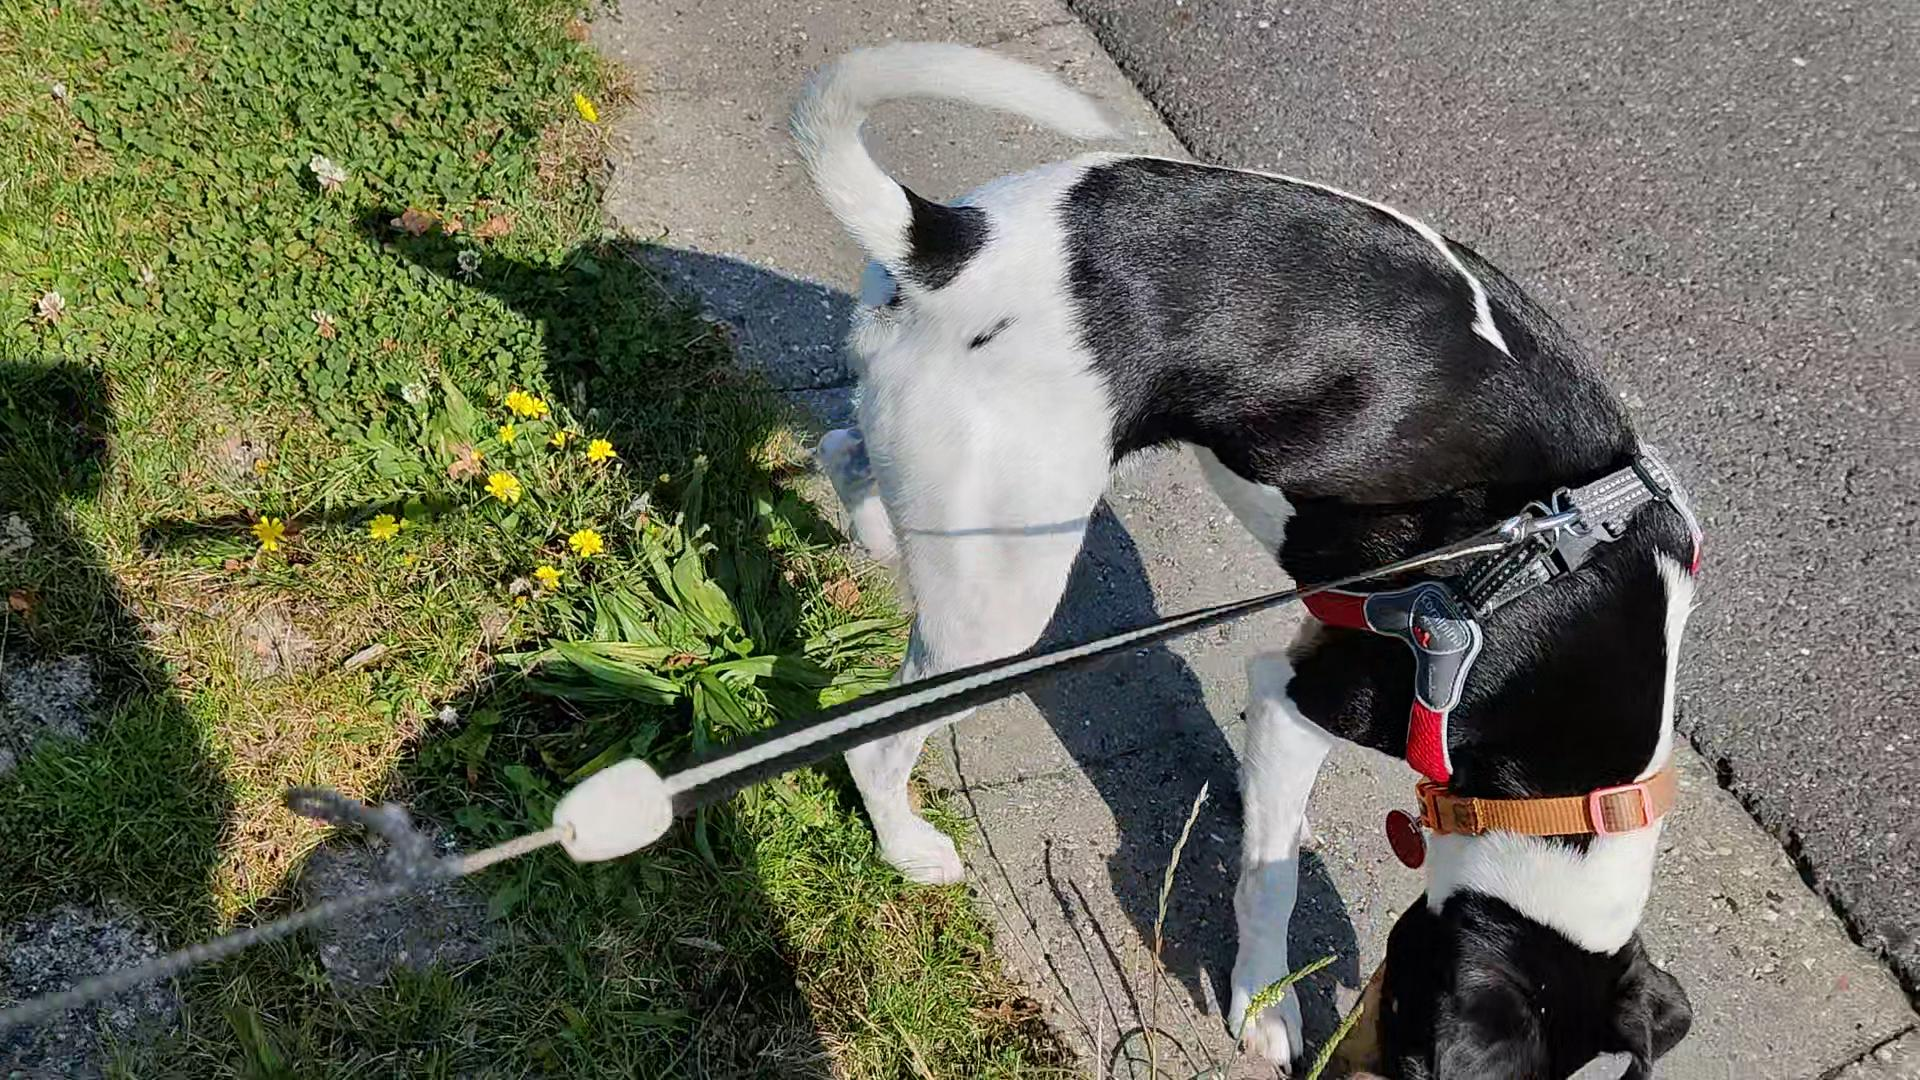Dog: (778, 32, 1712, 1079)
